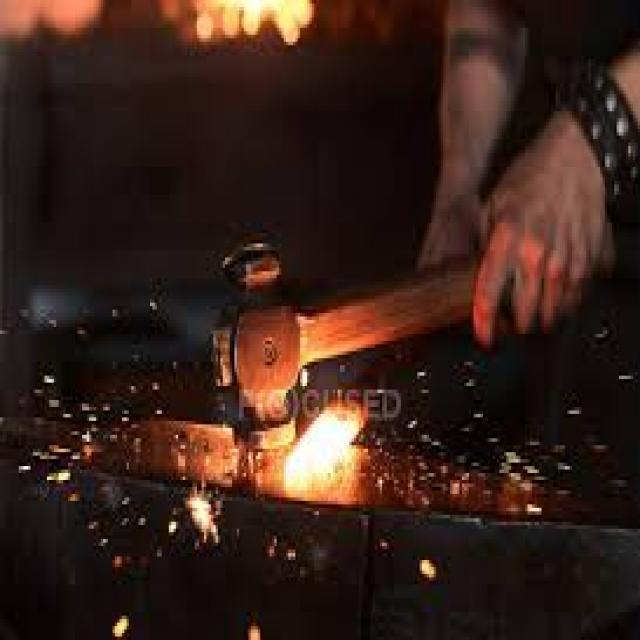hammer: (208, 198, 628, 448)
